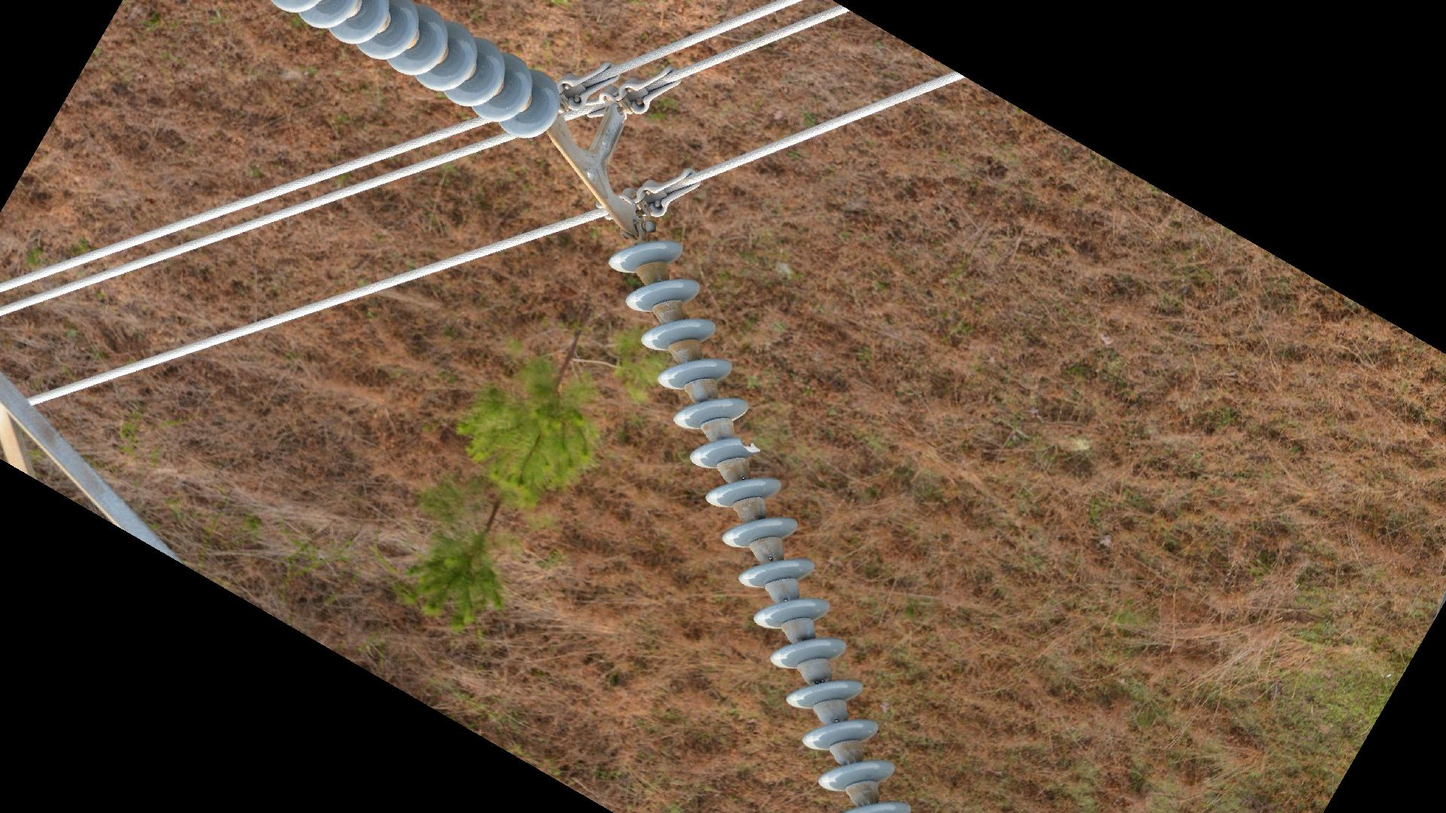insulator: (602, 236, 923, 813), (263, 1, 568, 147)
insulator_breakage: (734, 435, 763, 461)
